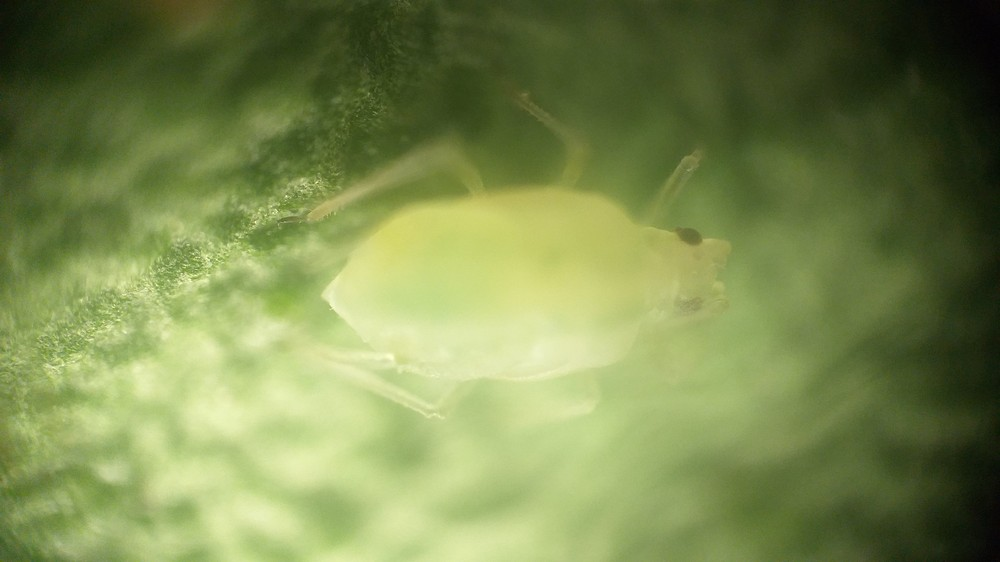Pulgon: (277, 88, 803, 462)
